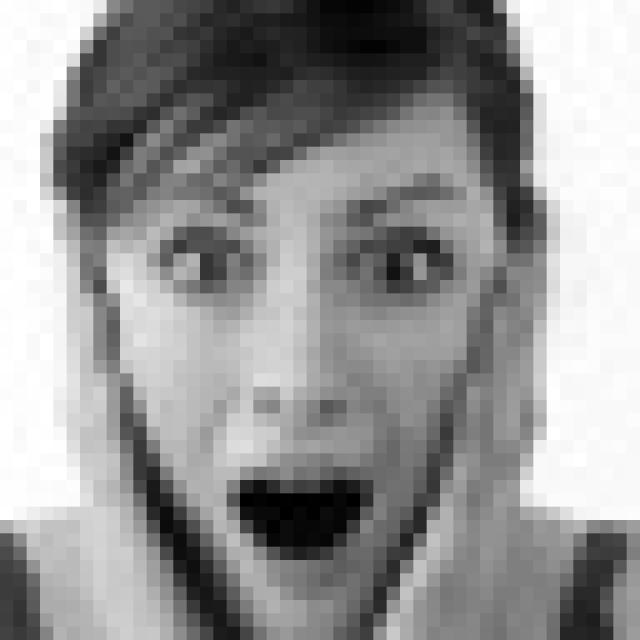surprise: (134, 165, 470, 596)
